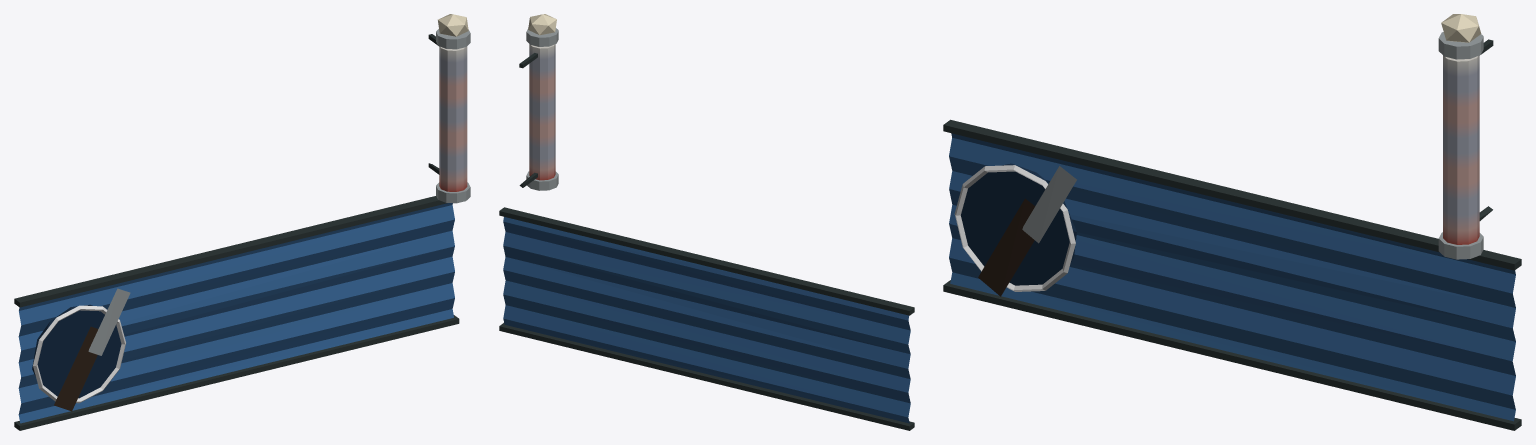
File: bang_hot_toc_binh_dan_48.glb
3 renders of one model, left to right at view 1: azimuth 30°, elevation 25°; view 2: azimuth 150°, elevation 25°; view 3: azimuth 330°, elevation 25°, orthographic. The views are drawn at different scales.
Parts seen in each view (by area): view 1: bang_hot_toc_binh_dan_48; view 2: bang_hot_toc_binh_dan_48; view 3: bang_hot_toc_binh_dan_48.
Boxes of the visible parts, left/top/right/bottom form: bang_hot_toc_binh_dan_48: left=14, top=14, right=470, bottom=430; bang_hot_toc_binh_dan_48: left=499, top=14, right=914, bottom=430; bang_hot_toc_binh_dan_48: left=943, top=14, right=1521, bottom=430.
Size of the model in its own units: 4.66 by 3.32 by 0.5722.
